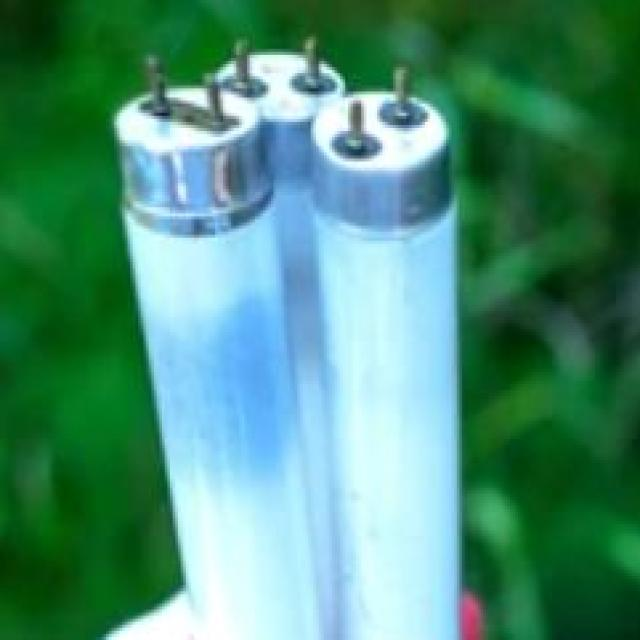electronic: (106, 33, 470, 637), (305, 64, 462, 637)
